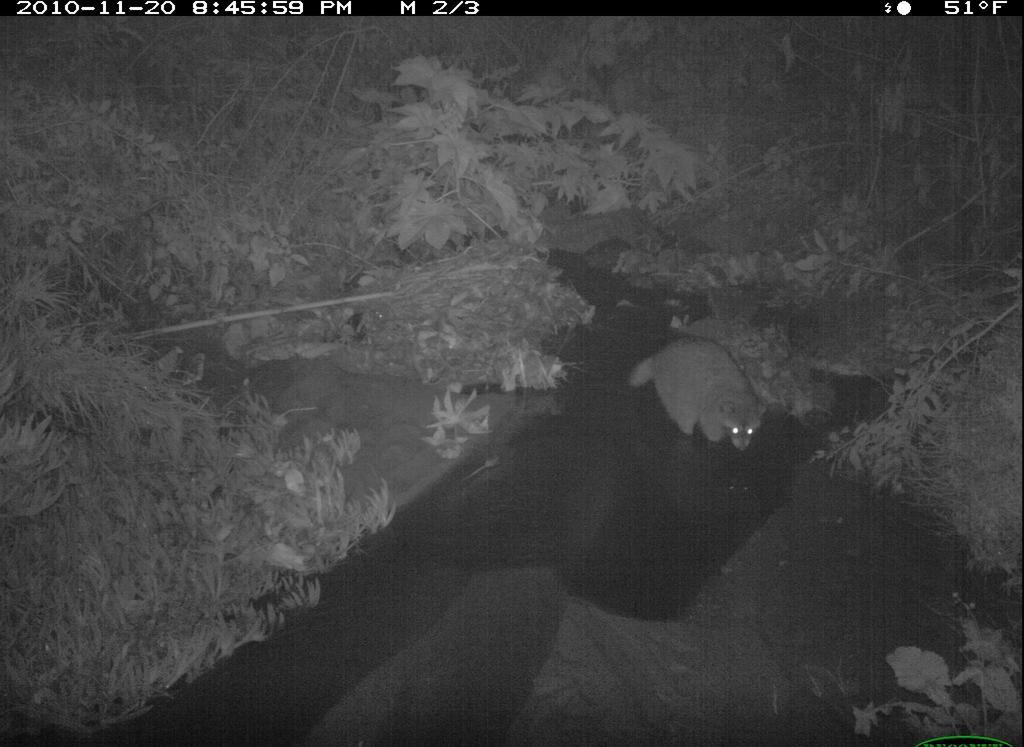raccoon: (621, 322, 777, 465)
